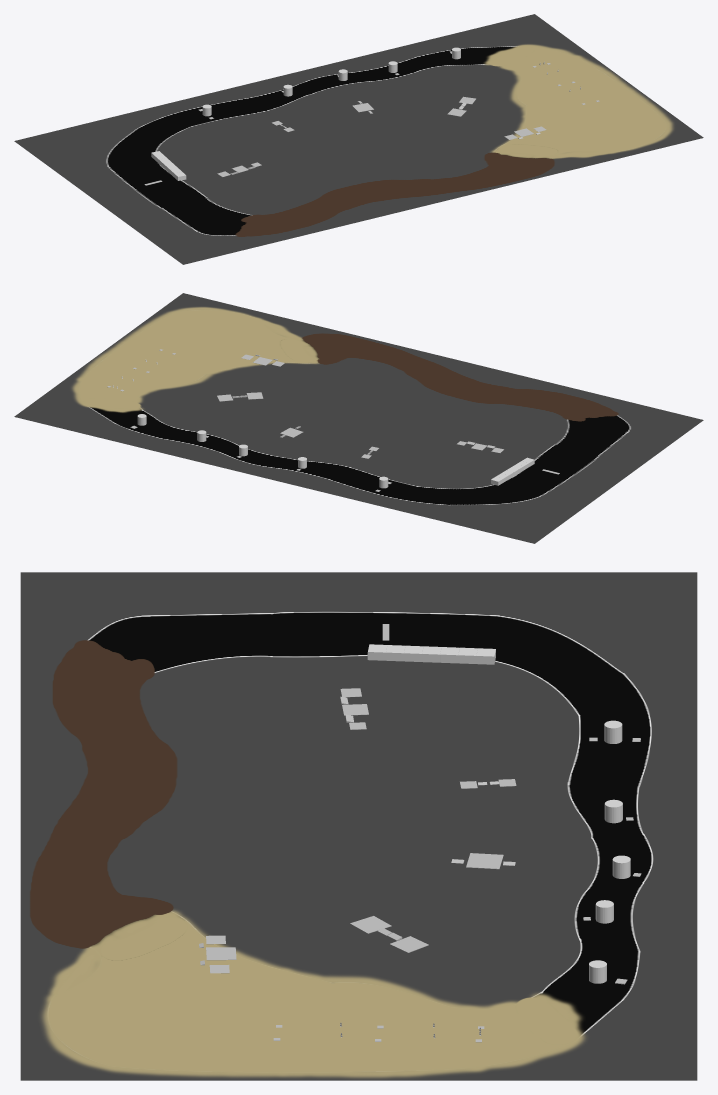
Rendered from track_resort.fbx.
3 renders of one model, top to bottom at view 1: azimuth 30°, elevation 25°; view 2: azimuth 150°, elevation 25°; view 3: azimuth 270°, elevation 25°, orthographic. The views are drawn at different scales.
Parts seen in each view (by area): view 1: track, solid_rail_smooth; view 2: track, solid_rail_smooth; view 3: track, solid_rail_smooth.
Part boxes in pixels (<box>): track: <box>14,14,703,264</box>; solid_rail_smooth: <box>151,151,186,180</box>; track: <box>14,293,703,543</box>; solid_rail_smooth: <box>491,457,534,485</box>; track: <box>20,572,697,1080</box>; solid_rail_smooth: <box>367,644,495,664</box>.
Size of what is drawn, in the model's own units: 13293 by 293 by 7480.
